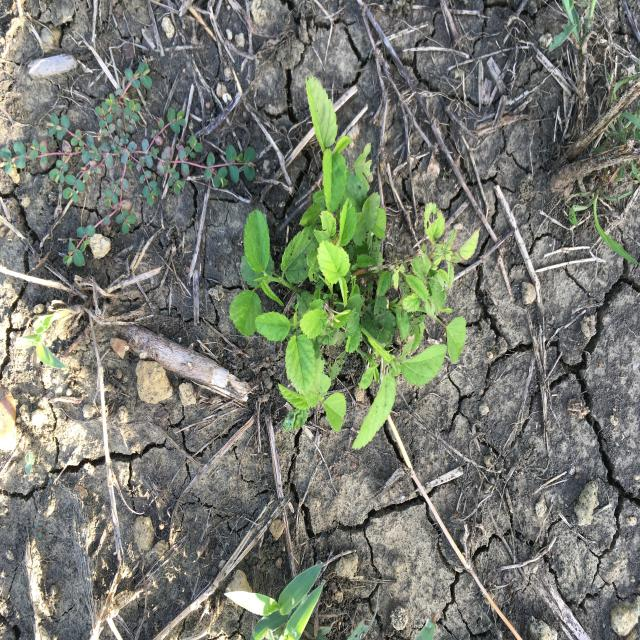PricklySida: (227, 74, 481, 453)
SpottedSpurge: (2, 51, 257, 268)
